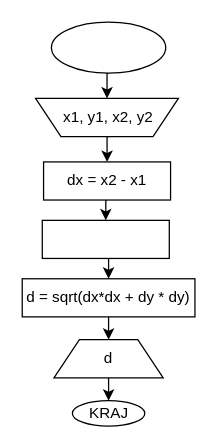
Image size: 217x448. Some labels were removed from this diagram. Each missing label, with the centre of its shape:
dy = y2 - y1: (105,238)
Start: (108,47)
